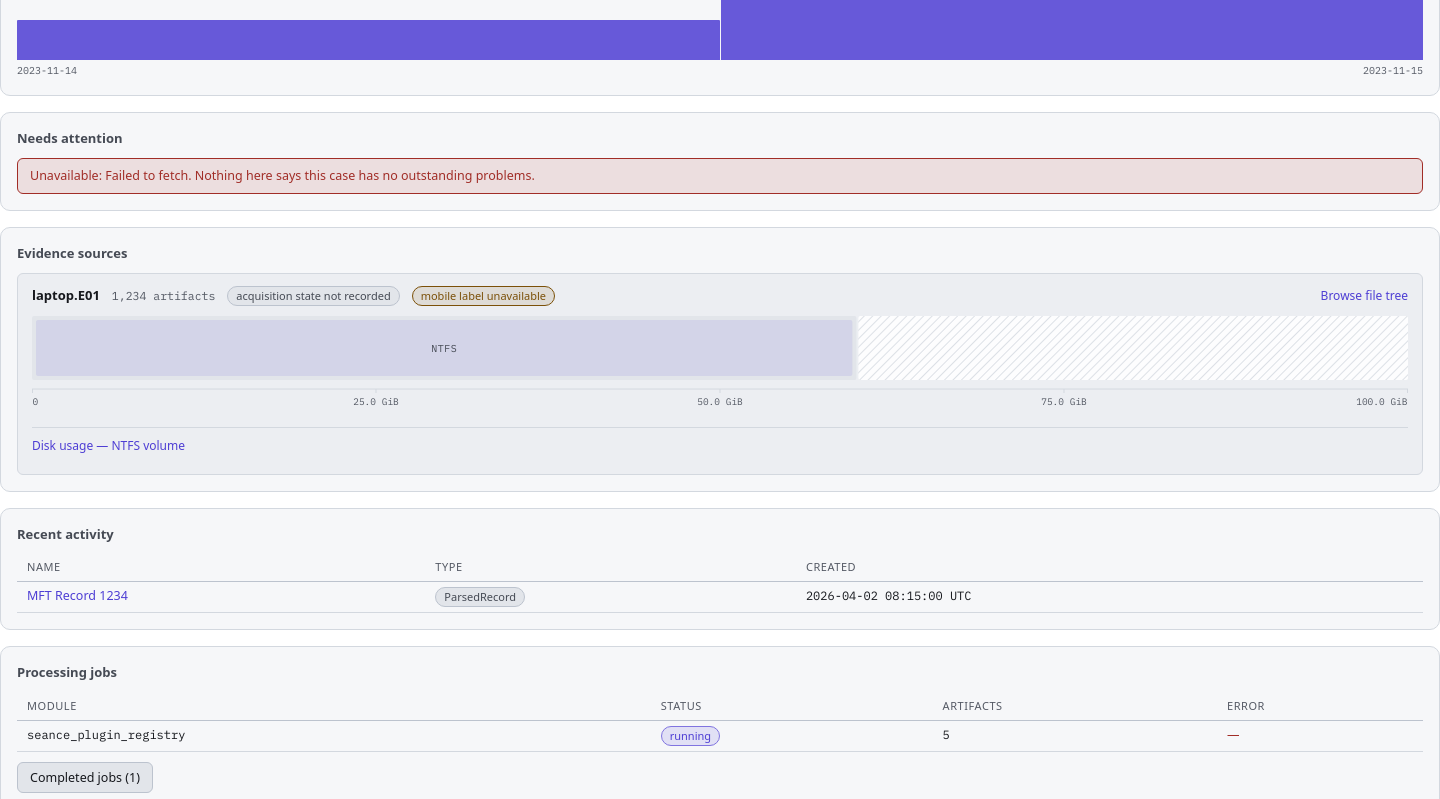
Scenario: CaseDashboardPage › keeps the disk usage row and says why when the allocation map fails (B8-021)
(page scrolled)
Click the button "Disk usage — NTFS volume" at coordinates (108, 445), box [32,436,185,454]
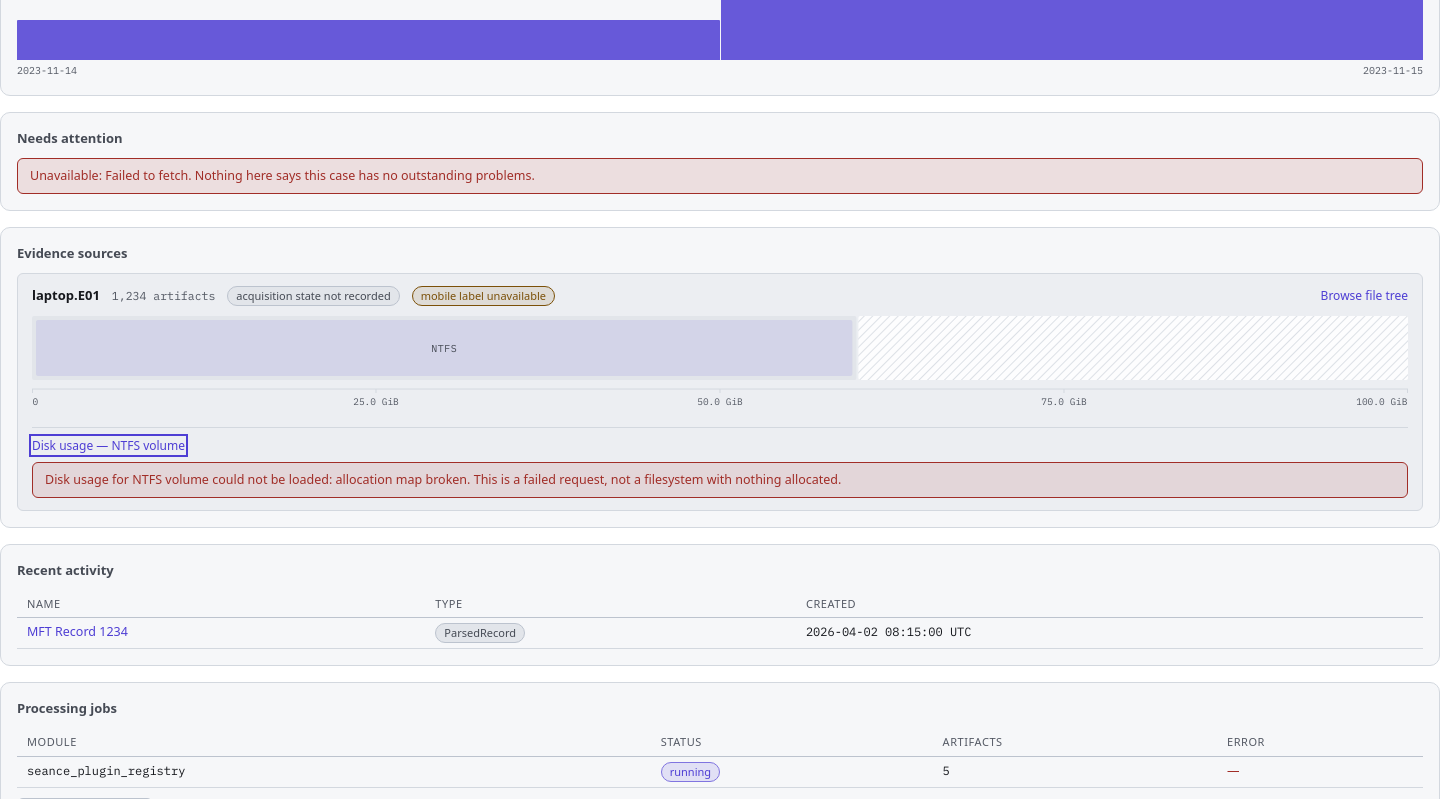
Expected: the text "Disk usage for NTFS volume could not be loaded" is shown, [32,462,1408,498]
